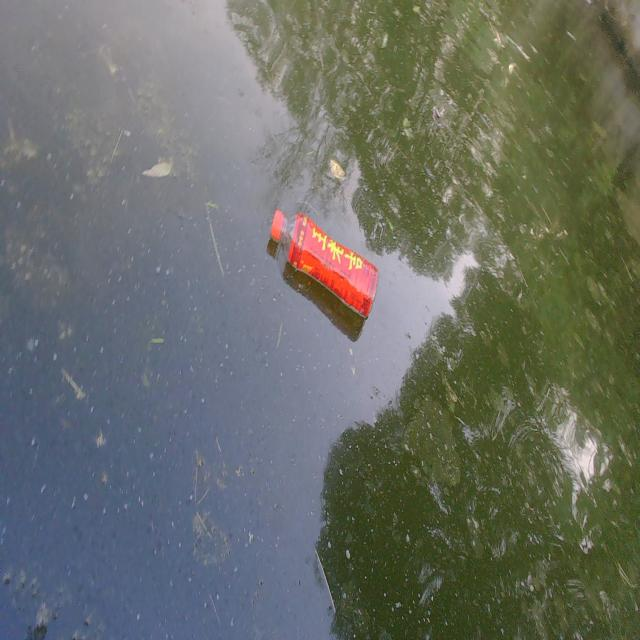Bottle: (266, 201, 380, 323)
